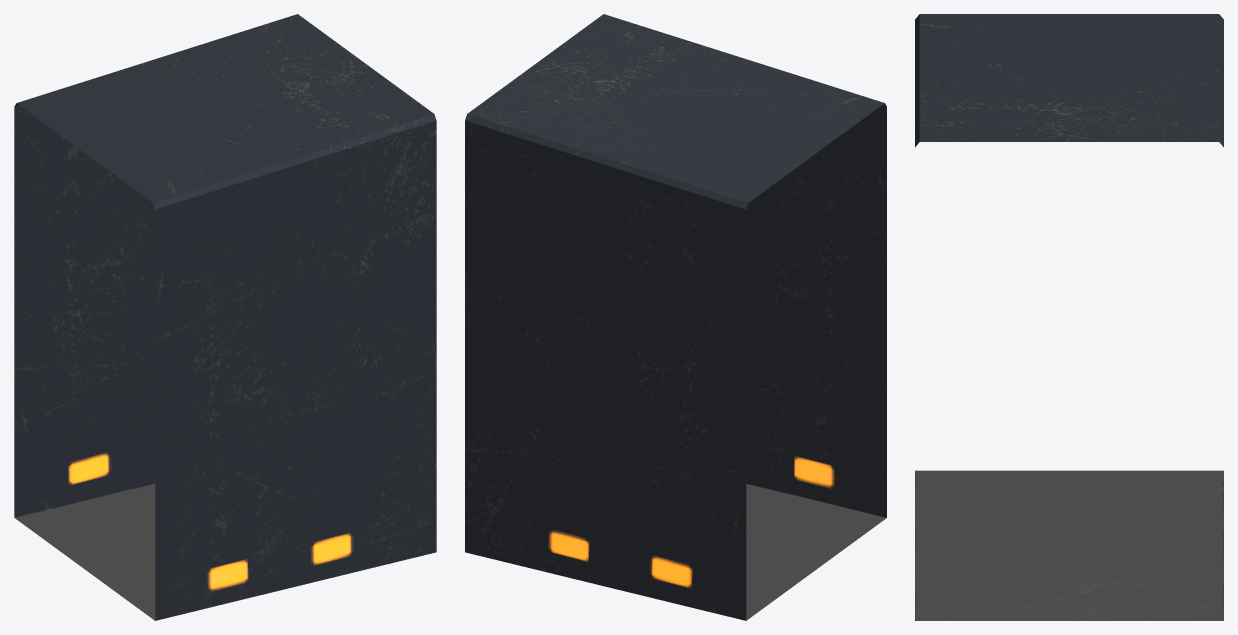
Rendered from Tx_Conexion_Pasillo_ESC.fbx.
3 views of the same model, side by side, from view 1: azimuth 30°, elevation 25°; view 2: azimuth 150°, elevation 25°; view 3: azimuth 270°, elevation 25° (orthographic). The views are drawn at different scales.
Parts seen in each view (by area): view 1: Conexión_Pasillo_ESC; view 2: Conexión_Pasillo_ESC; view 3: Conexión_Pasillo_ESC.
Part boxes in pixels (left/top/right/bottom): Conexión_Pasillo_ESC: left=14, top=14, right=436, bottom=620; Conexión_Pasillo_ESC: left=465, top=14, right=886, bottom=620; Conexión_Pasillo_ESC: left=915, top=14, right=1223, bottom=620.
Size of the model in its own units: 142 by 211 by 123.
Materials: 1 (1 with a texture image).
